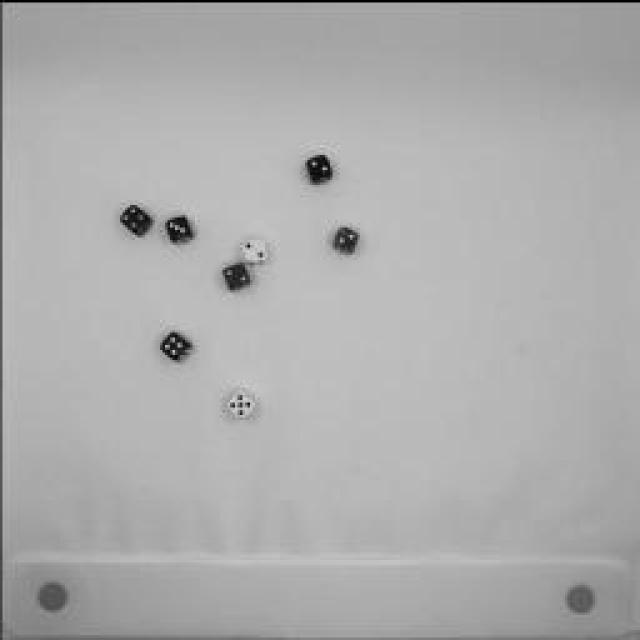dice_2: (302, 149, 336, 186), (328, 221, 362, 254), (219, 259, 251, 291), (239, 236, 269, 264)
dice_3: (162, 210, 192, 245)
dice_4: (156, 329, 194, 361), (118, 200, 152, 235)
dice_5: (222, 385, 258, 420)
